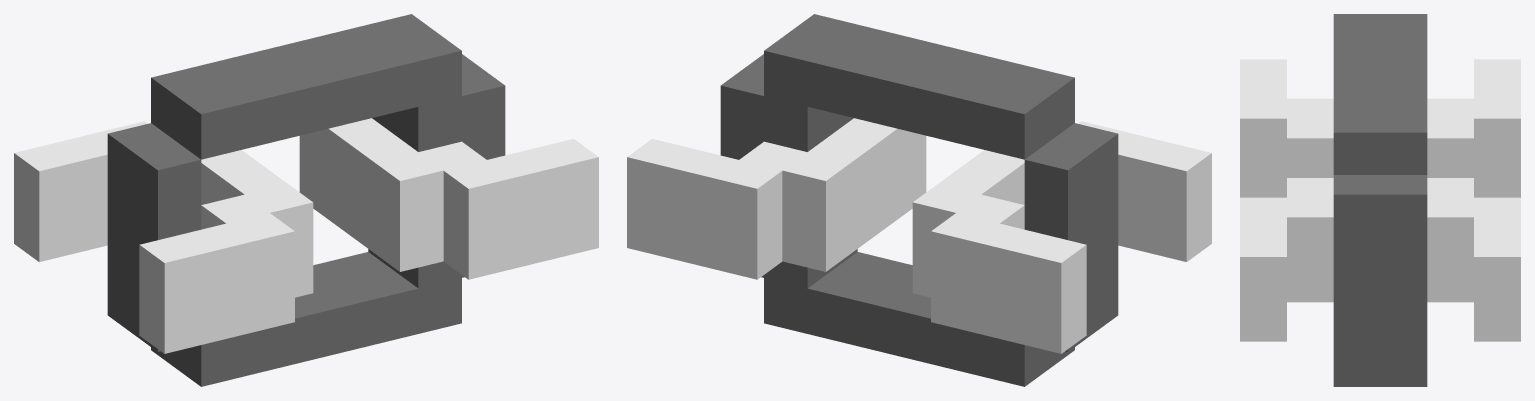
Rendered from chain.obj.
The picture shows the model from 3 angles, left to right: view 1: azimuth 30°, elevation 25°; view 2: azimuth 150°, elevation 25°; view 3: azimuth 270°, elevation 25°; orthographic projection. The views are drawn at different scales.
Size of the model in its own units: 1 by 0.6 by 0.6.
Materials: 1 (1 with a texture image).
